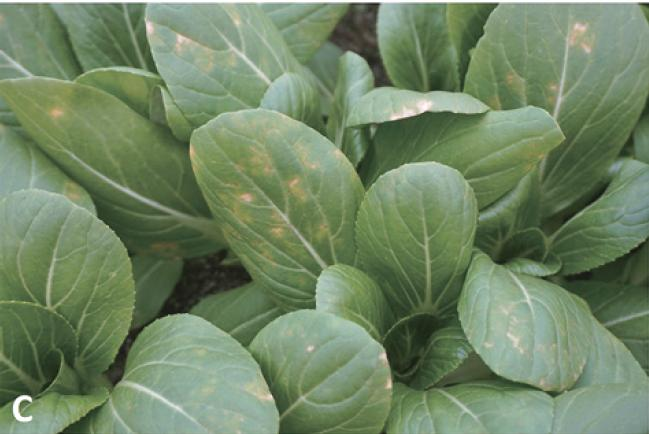Bok-Choy-Diseased: (184, 102, 366, 309), (465, 4, 644, 172), (427, 241, 602, 391), (104, 311, 276, 434)
